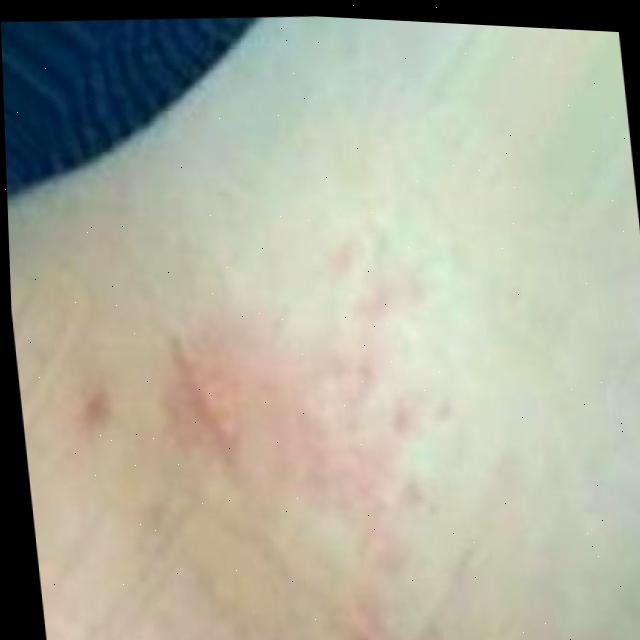Shingles: (44, 215, 498, 640)
